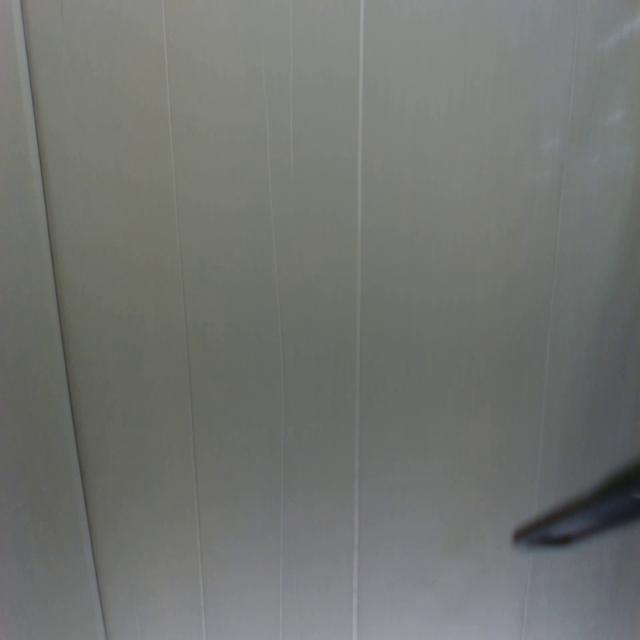crease: (19, 0, 111, 640), (161, 0, 207, 640), (536, 0, 581, 494), (260, 52, 286, 640), (350, 0, 366, 640), (288, 0, 295, 182), (520, 557, 534, 640)
